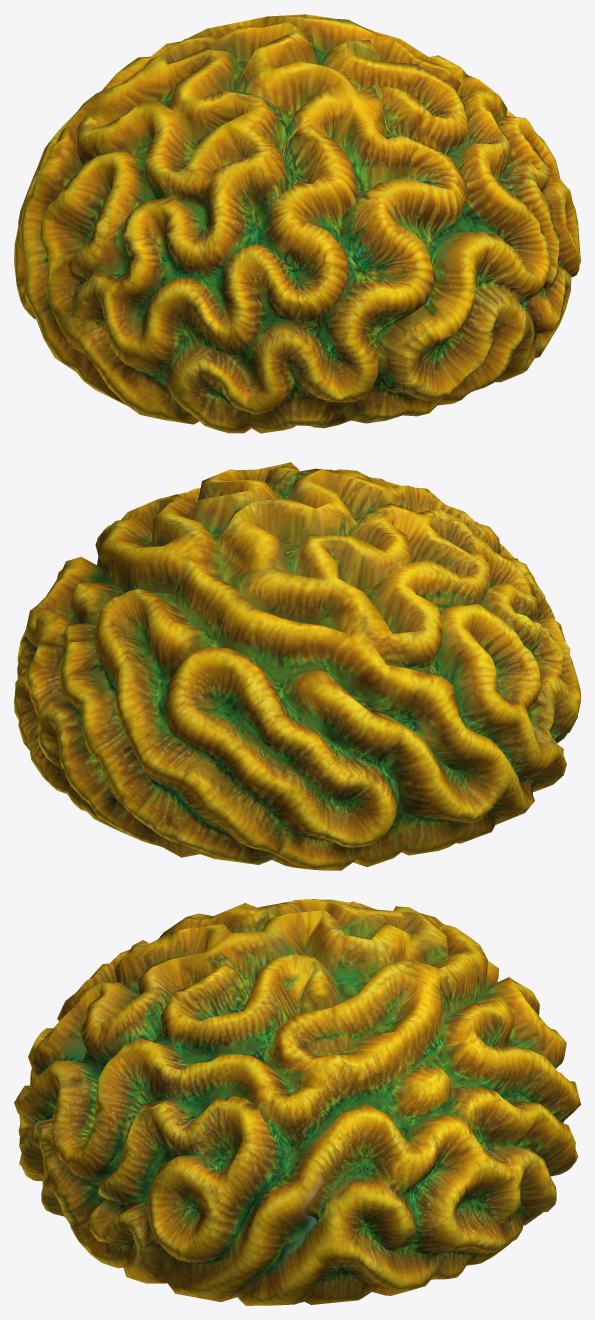
File: BrainCoral.obj
3 renders of one model, top to bottom at view 1: azimuth 30°, elevation 25°; view 2: azimuth 150°, elevation 25°; view 3: azimuth 270°, elevation 25°, orthographic.
Size of the model in its own units: 0.9933 by 0.5594 by 1.
1 material, 1 textured.
